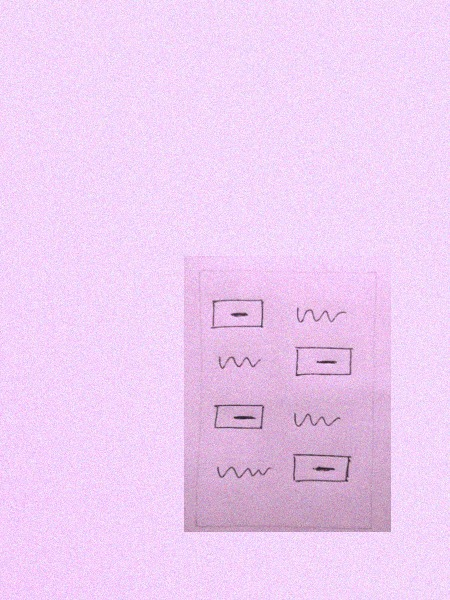button: (289, 450, 354, 487), (292, 343, 356, 379), (210, 296, 268, 332), (211, 401, 269, 433)
text: (290, 302, 349, 331), (289, 405, 343, 436), (213, 458, 275, 484), (216, 351, 264, 374)
